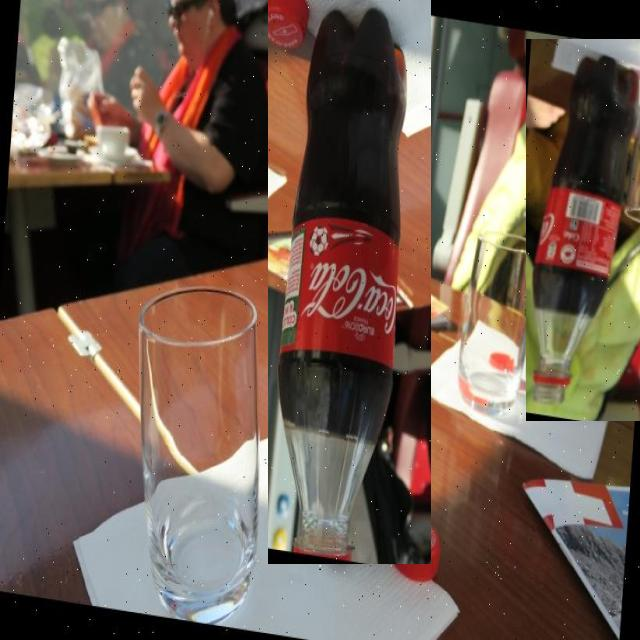coca-cola: (268, 0, 431, 564), (526, 39, 640, 422)
